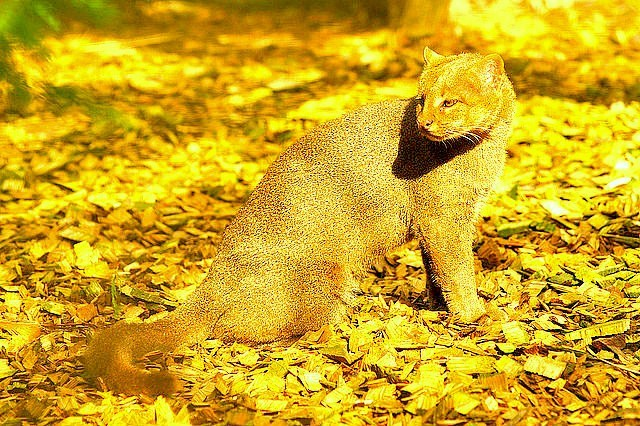Jaguarundi: (89, 42, 519, 396)
